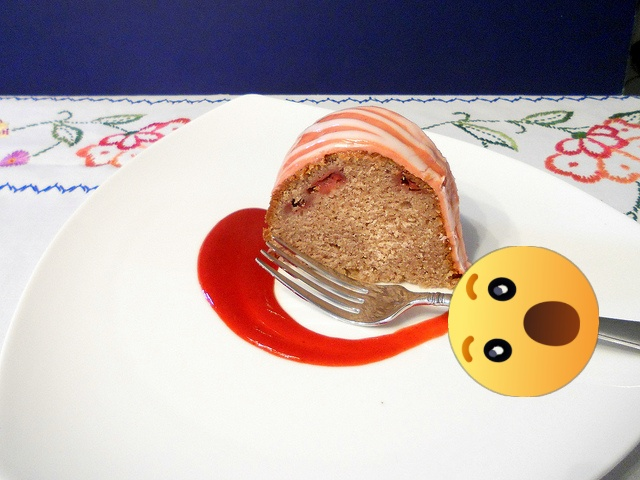wow: (448, 246, 599, 397)
